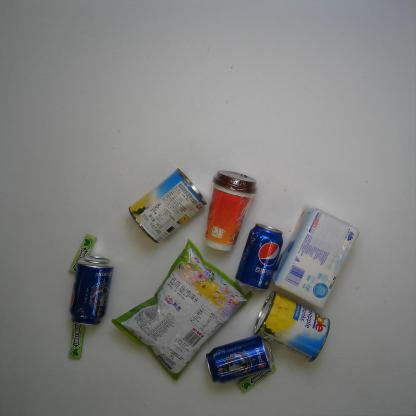Canned Food: (128, 167, 209, 244), (253, 290, 332, 363)
Drink: (234, 222, 284, 294), (204, 334, 276, 384), (68, 253, 114, 327)
Gum: (67, 233, 98, 275), (236, 364, 276, 394), (68, 321, 86, 360)
Instant Drink: (203, 168, 257, 253)
Puffed Food: (110, 238, 254, 380)
Tissue: (271, 203, 361, 310)
